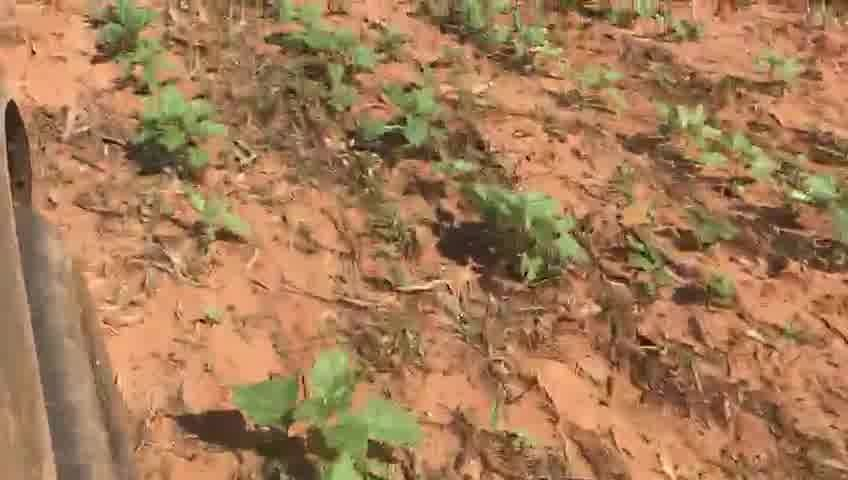sunflower: (226, 345, 432, 476), (474, 187, 589, 283), (141, 87, 226, 179), (361, 81, 447, 159), (690, 125, 779, 189), (498, 15, 561, 76), (114, 40, 178, 100), (272, 21, 359, 64), (185, 194, 250, 248), (657, 99, 717, 149), (99, 4, 160, 51), (574, 55, 630, 106), (758, 48, 809, 97), (795, 166, 836, 226), (338, 41, 384, 79)
